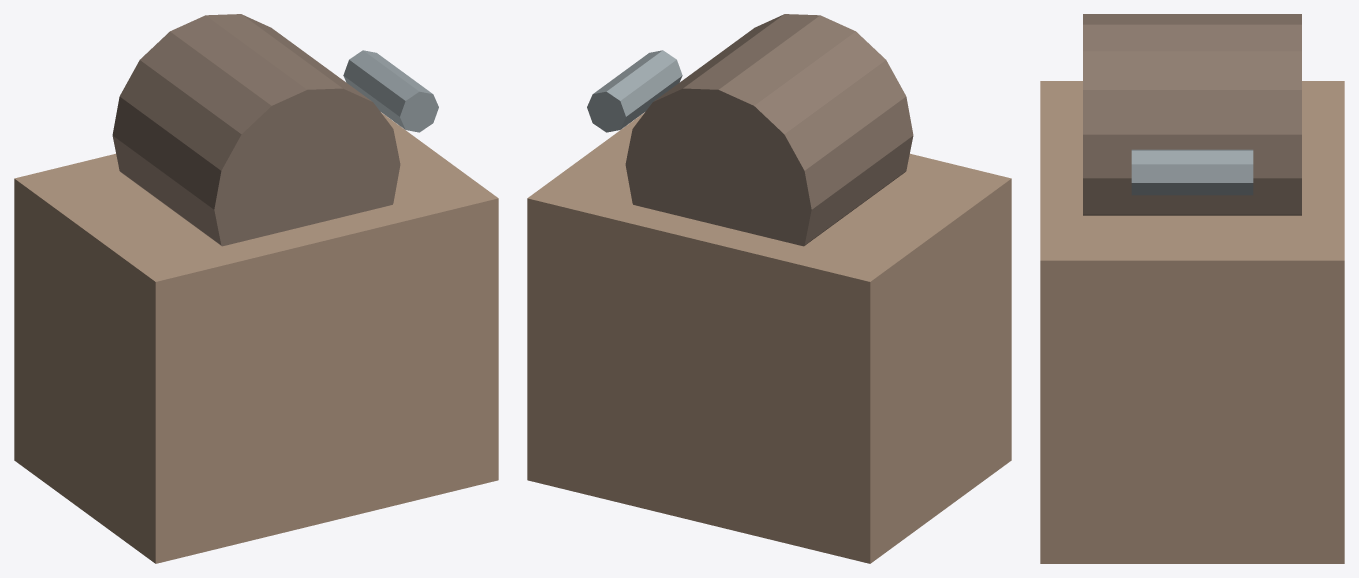
File: nectar_maker.glb
3 views of the same model, side by side, from view 1: azimuth 30°, elevation 25°; view 2: azimuth 150°, elevation 25°; view 3: azimuth 270°, elevation 25° (orthographic). The views are drawn at different scales.
Visible parts, largest first — view 1: part_00, part_01, part_02; view 2: part_00, part_01, part_02; view 3: part_00, part_01, part_02.
Boxes of the visible parts, x1,y1,x2,y2 form: part_00: (14, 112, 498, 563); part_01: (112, 14, 400, 246); part_02: (343, 50, 438, 132); part_00: (527, 112, 1011, 563); part_01: (625, 14, 913, 246); part_02: (587, 50, 682, 132); part_00: (1040, 81, 1344, 563); part_01: (1083, 14, 1301, 215); part_02: (1131, 149, 1253, 195).
Bounding box in the file's own units: 1.4 × 1.63 × 1.
